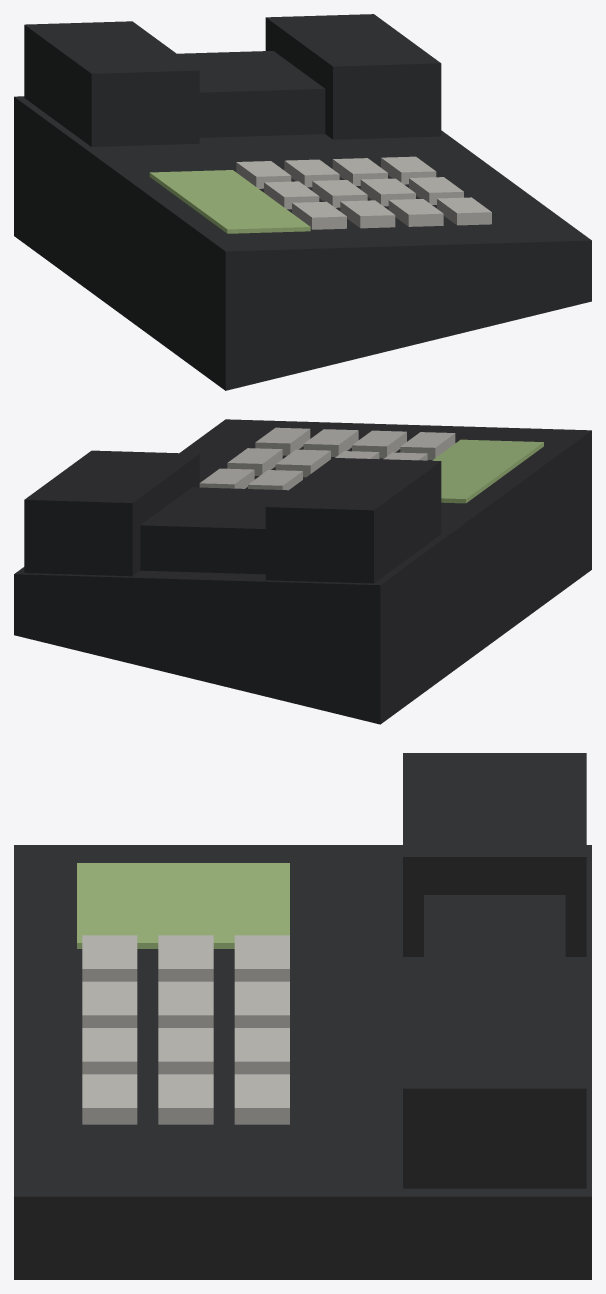
Rendered from DeskPhone.gltf.
3 renders of one model, top to bottom at view 1: azimuth 30°, elevation 25°; view 2: azimuth 150°, elevation 25°; view 3: azimuth 270°, elevation 25°, orthographic. The views are drawn at different scales.
Visible parts, largest first — view 1: DeskPhone; view 2: DeskPhone; view 3: DeskPhone.
Part boxes in pixels (bbox=[...]): DeskPhone: bbox=[14, 14, 591, 390]; DeskPhone: bbox=[14, 419, 591, 724]; DeskPhone: bbox=[14, 753, 591, 1279].
Bounding box in the file's own units: 0.22 × 0.121 × 0.22.
